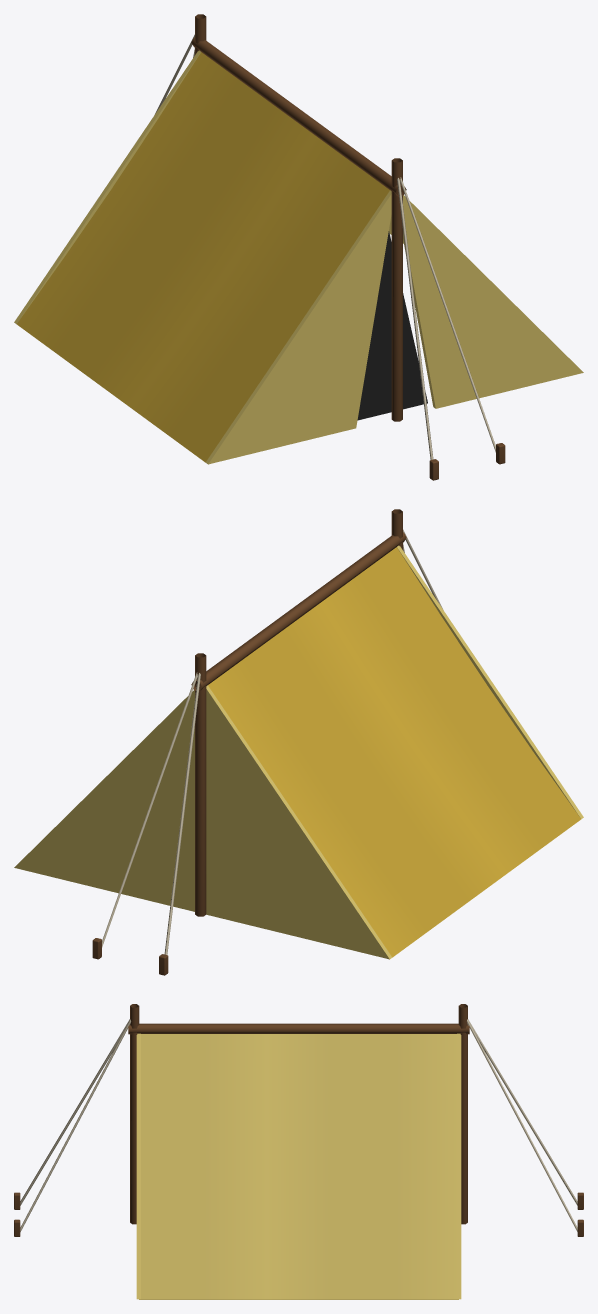
Rendered from tent_2.glb.
The picture shows the model from 3 angles, top to bottom: view 1: azimuth 30°, elevation 25°; view 2: azimuth 150°, elevation 25°; view 3: azimuth 270°, elevation 25°; orthographic projection. The views are drawn at different scales.
Parts seen in each view (by area): view 1: tent_2_main; view 2: tent_2_main; view 3: tent_2_main.
Boxes of the visible parts, x1,y1,x2,y2 form: tent_2_main: (14,14,583,480); tent_2_main: (14,509,583,975); tent_2_main: (14,1004,583,1299).
Bounding box in the file's own units: 1.7 × 1.13 × 2.67.
